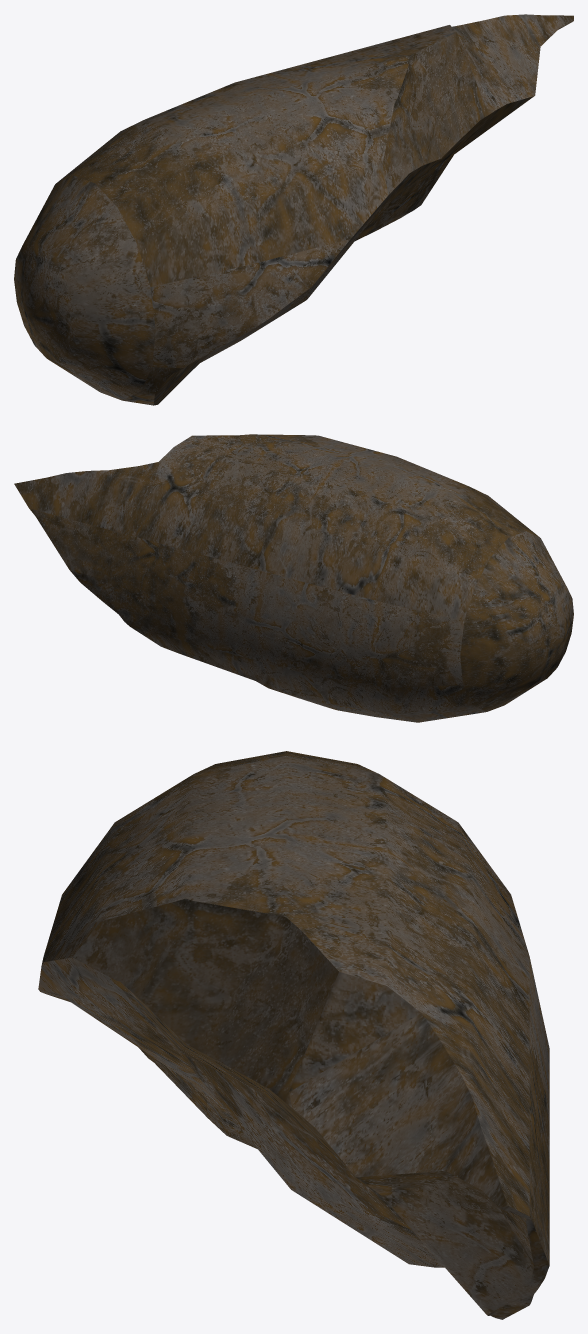
The model's file is RockShard12.fbx.
3 renders of one model, top to bottom at view 1: azimuth 30°, elevation 25°; view 2: azimuth 150°, elevation 25°; view 3: azimuth 270°, elevation 25°, orthographic. The views are drawn at different scales.
Visible parts, largest first — view 1: RockShard12; view 2: RockShard12; view 3: RockShard12.
Part boxes in pixels (x1,y1,x2,y2): RockShard12: (14, 14, 573, 405); RockShard12: (14, 434, 573, 722); RockShard12: (38, 751, 549, 1319).
Size of the model in its own units: 153 by 67.7 by 68.34.
